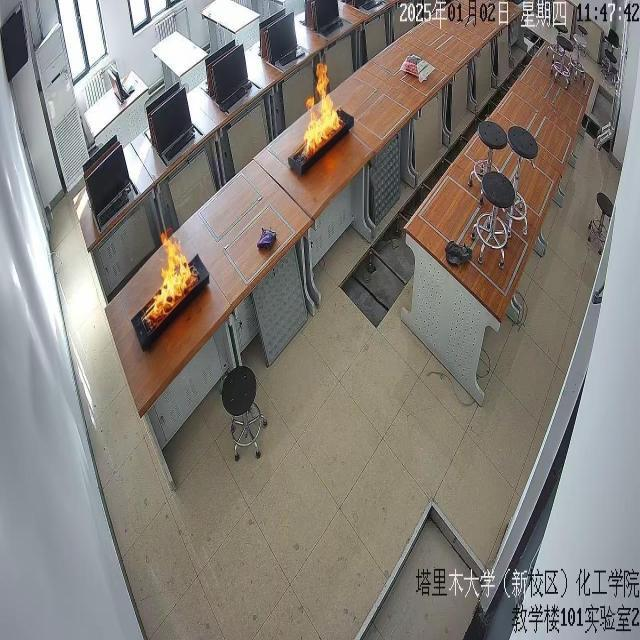smoke: (146, 225, 192, 324), (300, 61, 340, 162)
